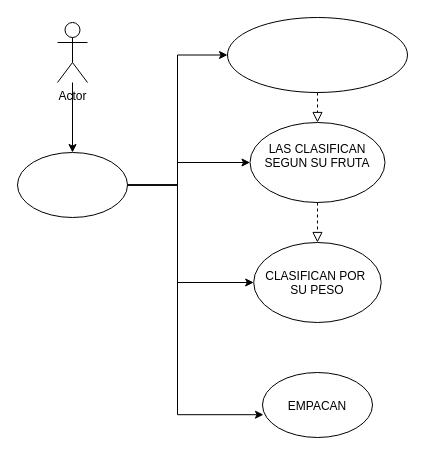
Some shapes in this 425 by 455 pixel diagram are drawn without their labels. Each missing label, with the box of its shape:
BUSQUAN LAS FRUTAS: (226, 16, 408, 92)
DENTRO DEL NEGOCIO: (16, 152, 128, 218)
